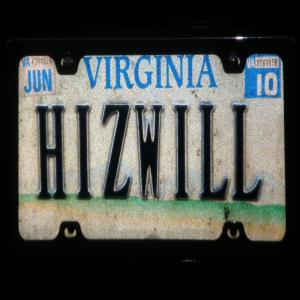Vehicle-registration-plate: (19, 55, 287, 244)
